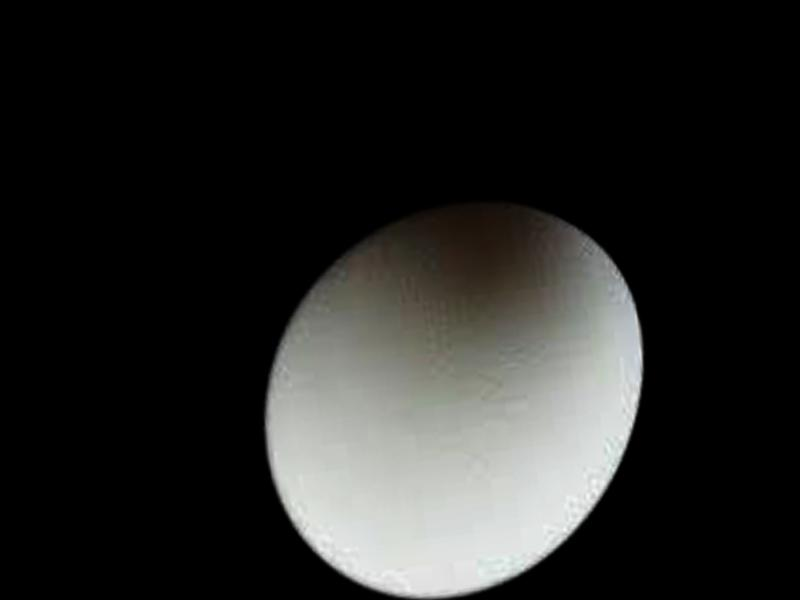Eggs: (241, 187, 672, 600)
